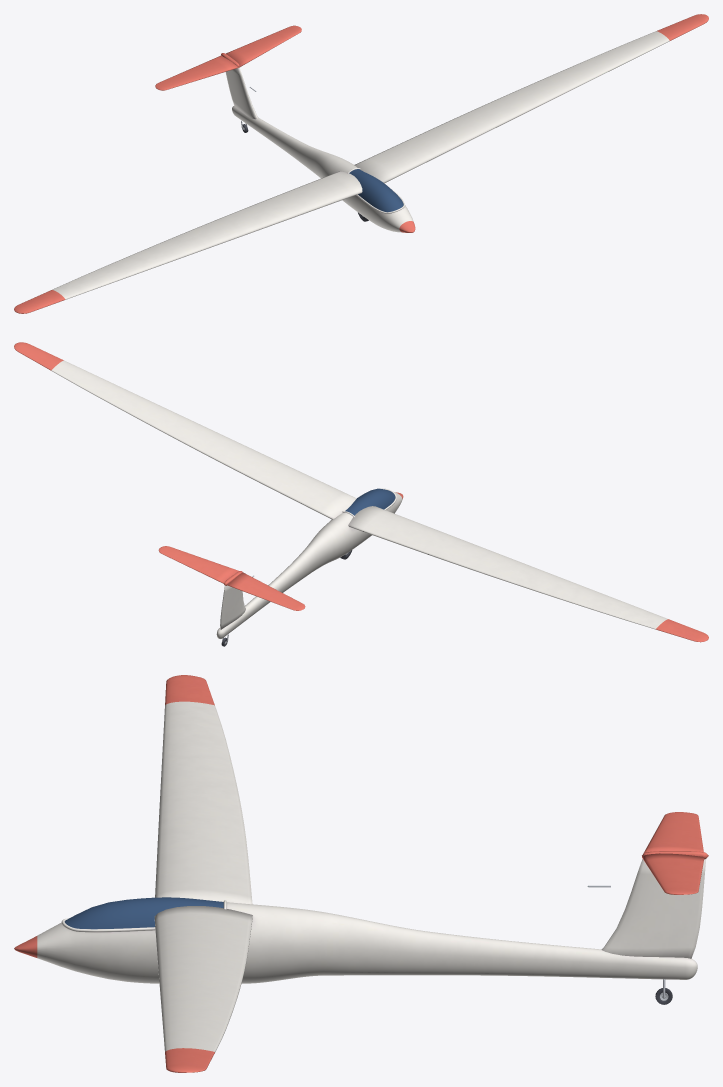
Rendered from glider.glb.
The picture shows the model from 3 angles, top to bottom: view 1: azimuth 30°, elevation 25°; view 2: azimuth 150°, elevation 25°; view 3: azimuth 270°, elevation 25°; orthographic projection. The views are drawn at different scales.
Visible parts, largest first — view 1: glider_body, glider_canopy_glass; view 2: glider_body, glider_canopy_glass; view 3: glider_body, glider_canopy_glass.
Boxes of the visible parts, <box> form: glider_body: <box>14,14,708,313</box>; glider_canopy_glass: <box>349,169,403,212</box>; glider_body: <box>14,342,708,643</box>; glider_canopy_glass: <box>345,488,395,515</box>; glider_body: <box>14,675,708,1072</box>; glider_canopy_glass: <box>64,897,223,929</box>.
Size of the model in its own units: 14.77 by 2.61 by 6.81.
8 materials, 1 textured.
